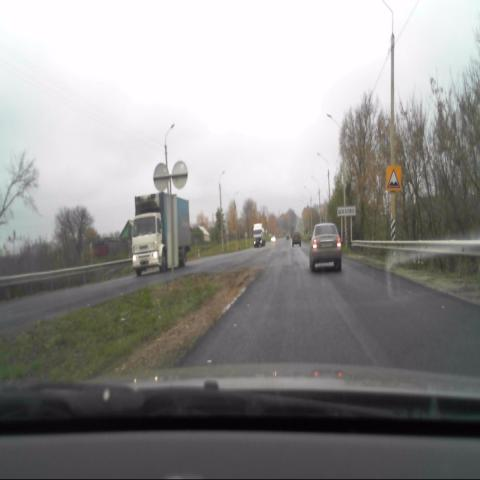1_16: (385, 164, 401, 191)
